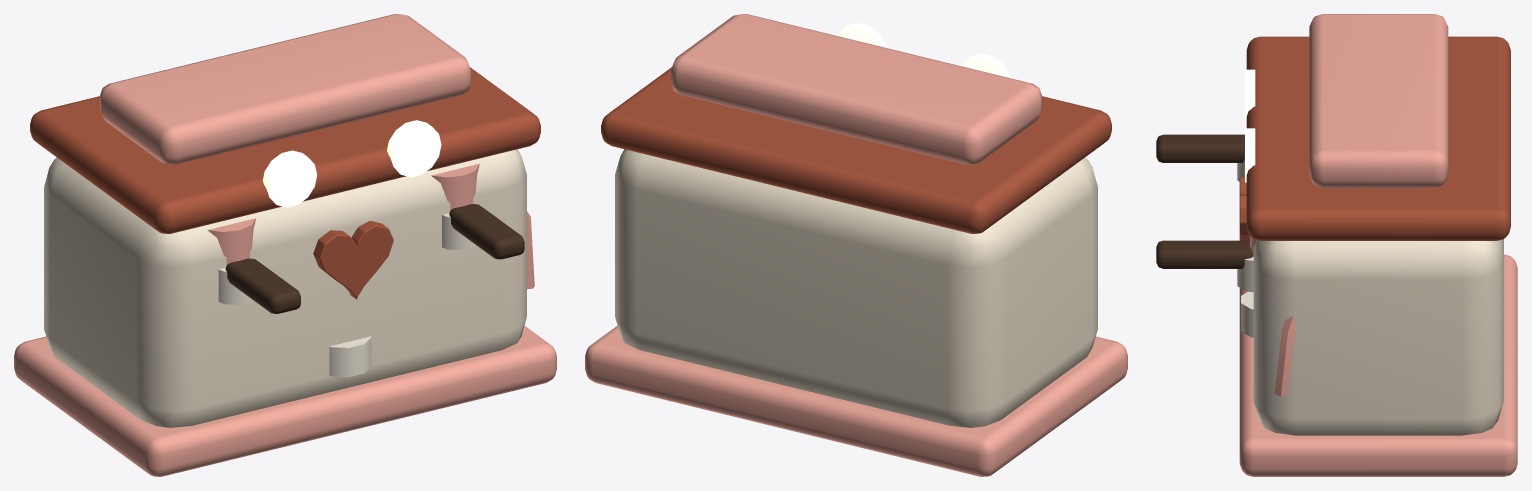
The model's file is espresso_machine.glb.
The picture shows the model from 3 angles, left to right: view 1: azimuth 30°, elevation 25°; view 2: azimuth 150°, elevation 25°; view 3: azimuth 270°, elevation 25°; orthographic projection. The views are drawn at different scales.
Parts seen in each view (by area): view 1: espresso_machine; view 2: espresso_machine; view 3: espresso_machine.
Part boxes in pixels (x1,y1,x2,y2): espresso_machine: (14,14,556,476); espresso_machine: (585,14,1127,476); espresso_machine: (1156,14,1517,476).
Size of the model in its own units: 0.66 by 0.49 by 0.52.
